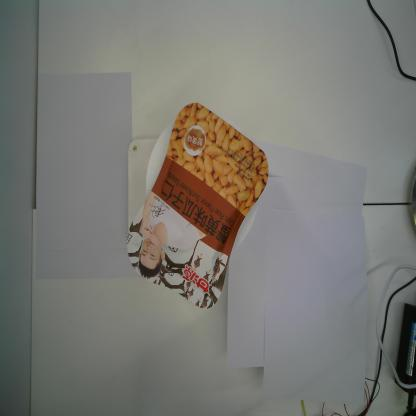Dried Fruit: (126, 102, 270, 310)
